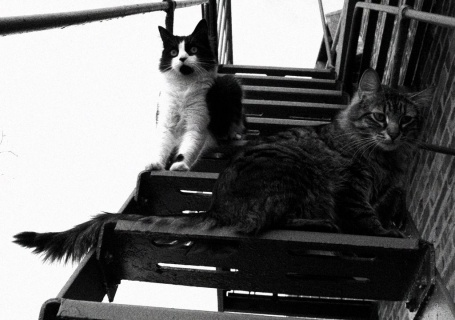Cat: (10, 66, 436, 266), (142, 19, 246, 170)
